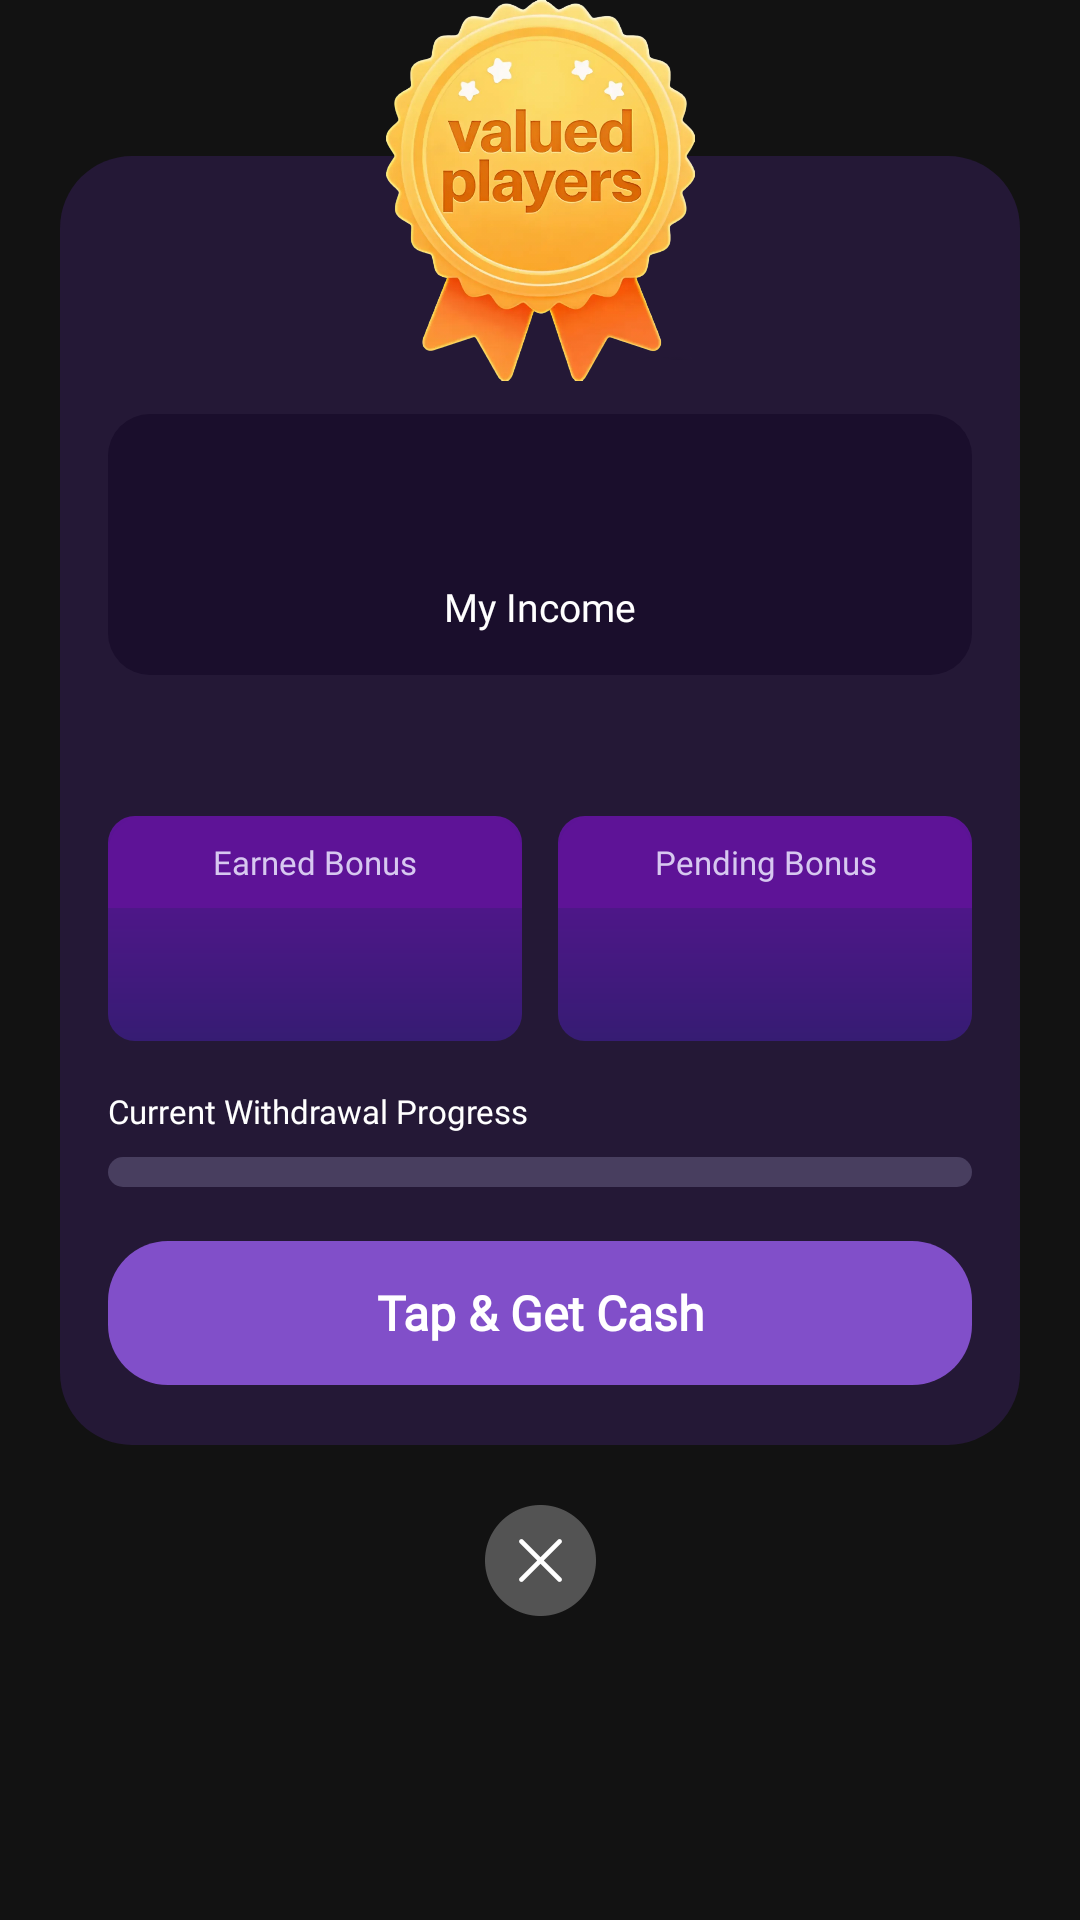

Point at icon controls on the screen. Image size 1080*1920, points as [x,y].
close: [540,1560]
